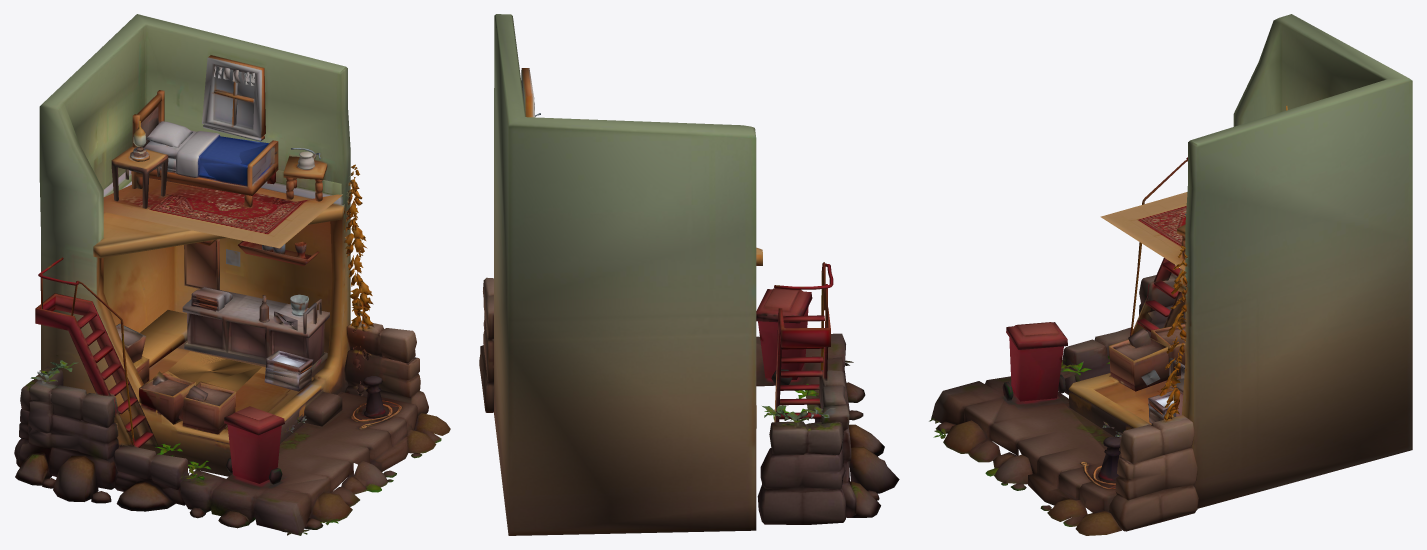
File: tier1-lv4.glb
3 views of the same model, side by side, from view 1: azimuth 30°, elevation 25°; view 2: azimuth 150°, elevation 25°; view 3: azimuth 270°, elevation 25° (orthographic). The views are drawn at different scales.
Visible parts, largest first — view 1: tripo_node_b77e92f2-5803-4d45-8334-edebd6797dcd; view 2: tripo_node_b77e92f2-5803-4d45-8334-edebd6797dcd; view 3: tripo_node_b77e92f2-5803-4d45-8334-edebd6797dcd.
Part boxes in pixels (x1,y1,x2,y2): tripo_node_b77e92f2-5803-4d45-8334-edebd6797dcd: (14, 14, 450, 535); tripo_node_b77e92f2-5803-4d45-8334-edebd6797dcd: (479, 14, 899, 535); tripo_node_b77e92f2-5803-4d45-8334-edebd6797dcd: (929, 14, 1412, 535).
Size of the model in its own units: 1.14 by 0.998 by 1.18.
1 material, 1 textured.
